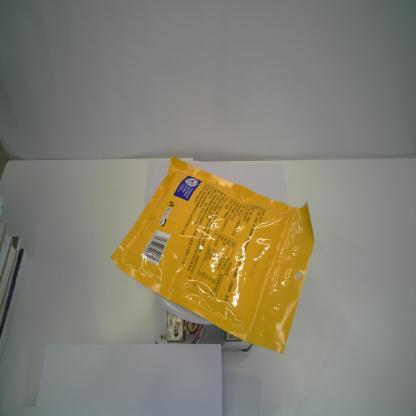Dried Fruit: (110, 155, 315, 355)
